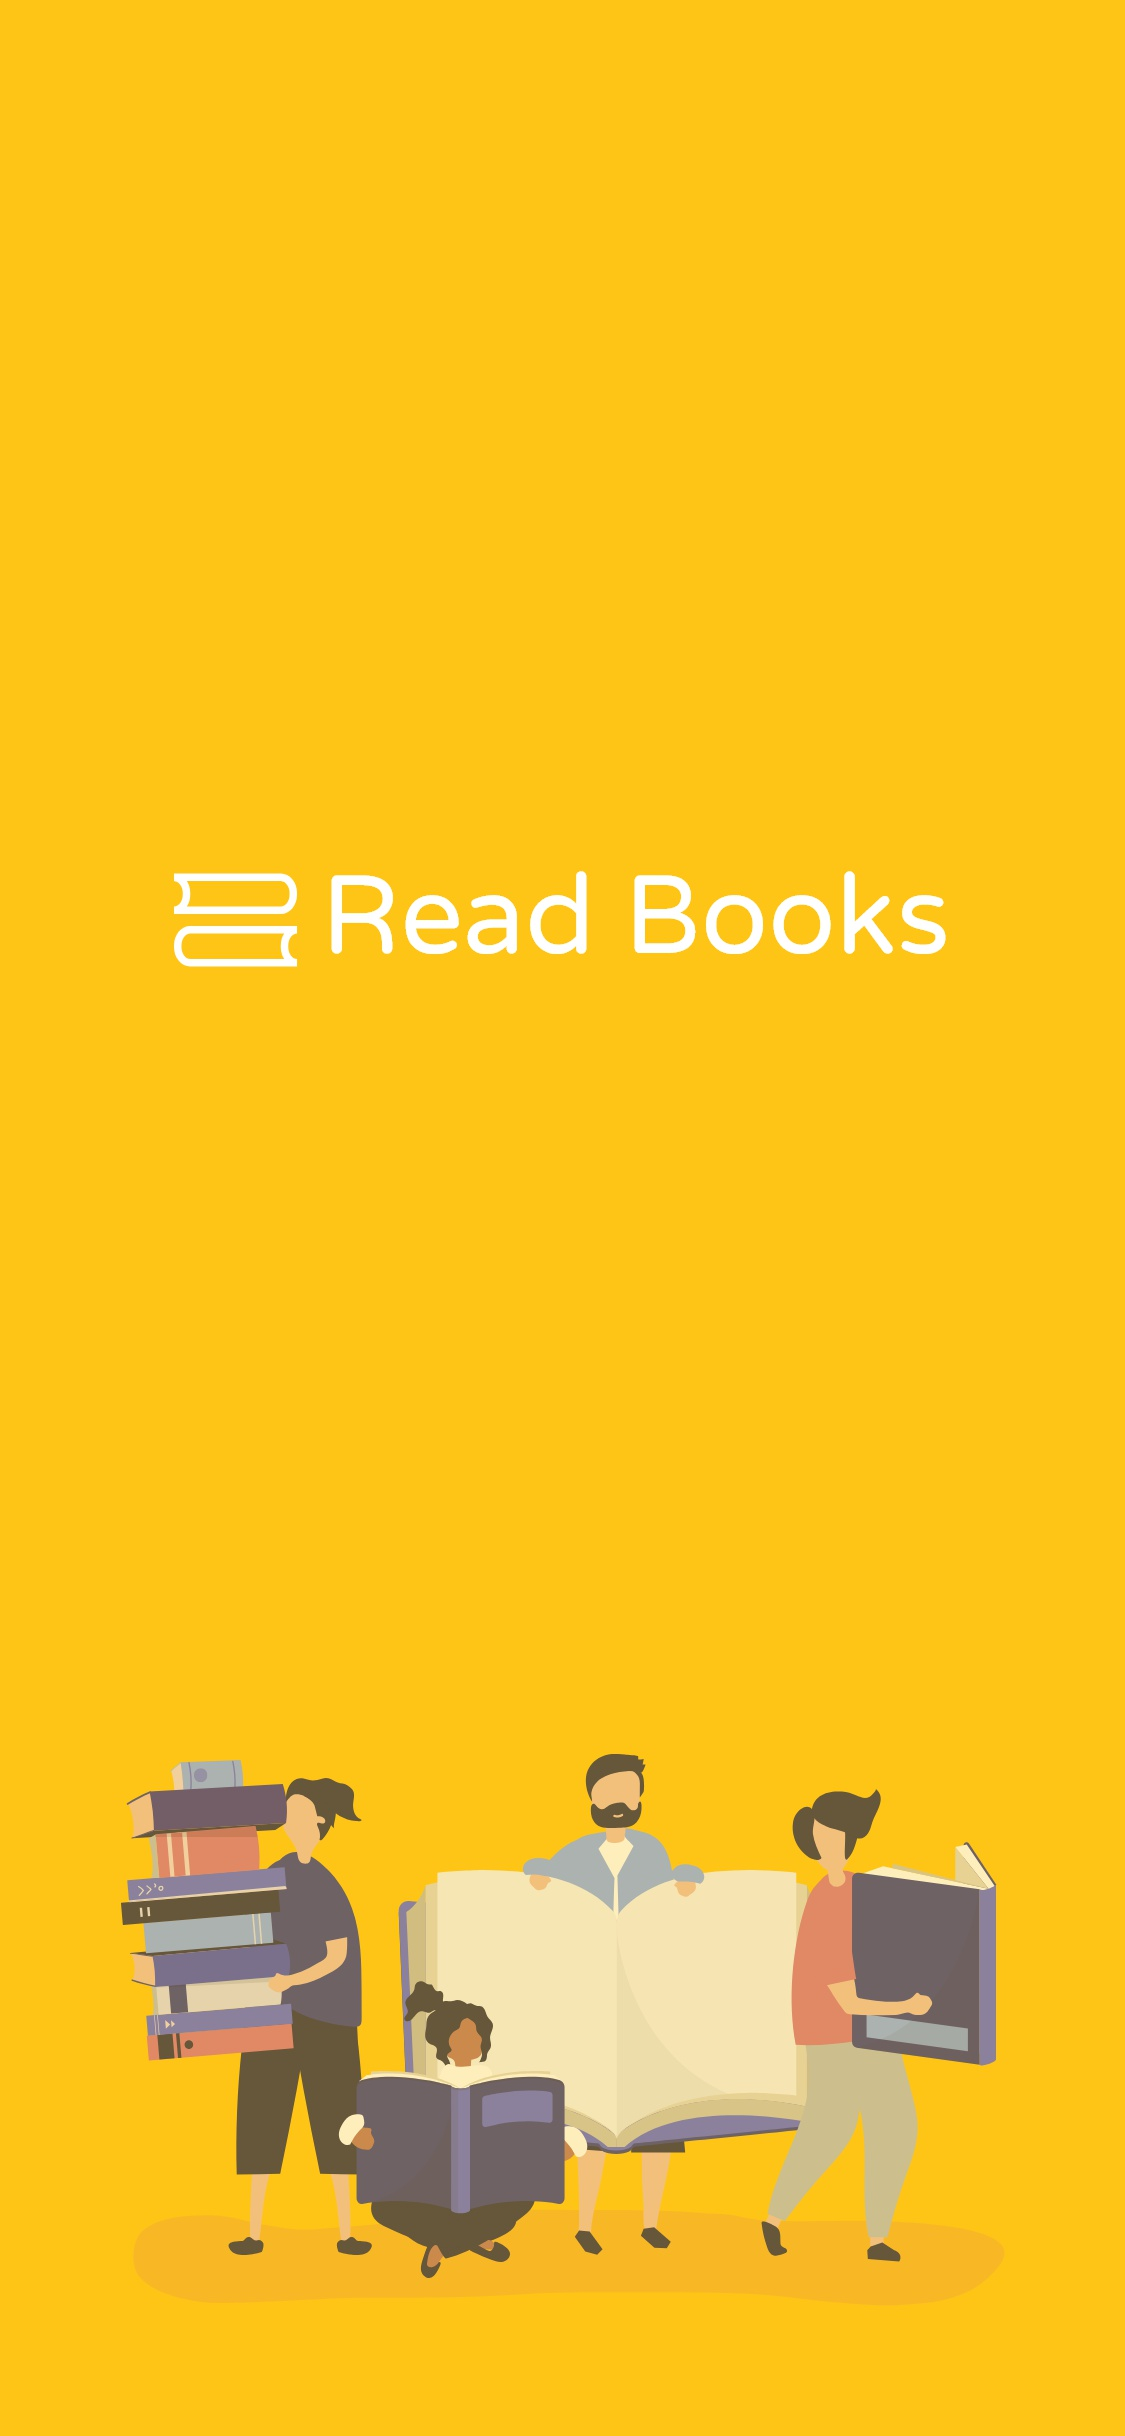Image: (120, 1752, 1005, 2307), (174, 873, 298, 968)
Text: (329, 872, 946, 955)
